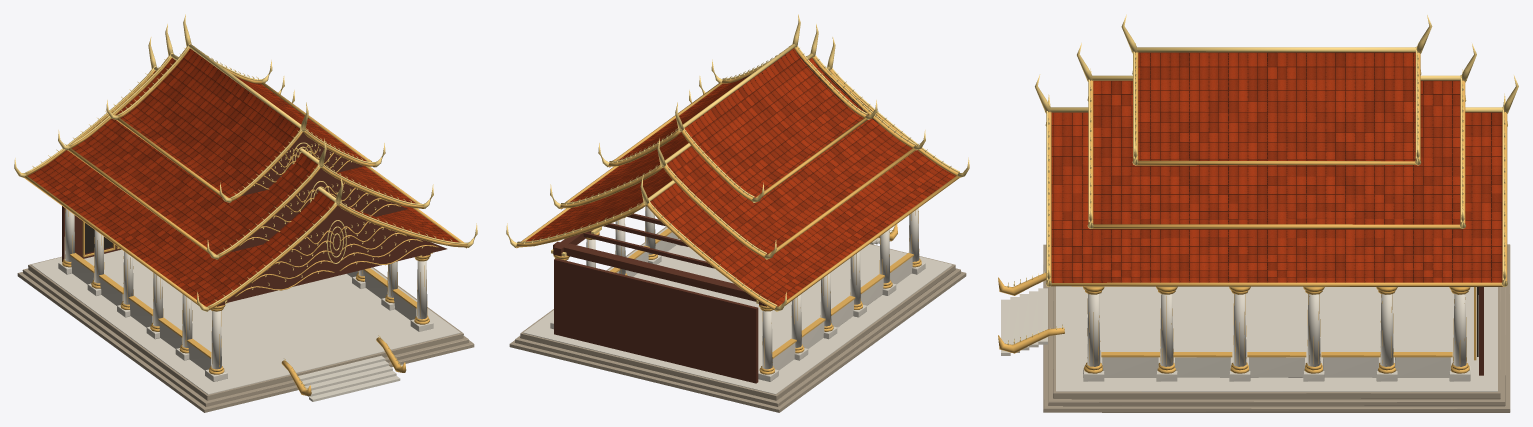
File: temple-lod.glb
The picture shows the model from 3 angles, left to right: view 1: azimuth 30°, elevation 25°; view 2: azimuth 150°, elevation 25°; view 3: azimuth 270°, elevation 25°; orthographic projection. The views are drawn at different scales.
Visible parts, largest first — view 1: temple LOD / Mobile tiled roof, temple LOD / Warm carved limestone, temple LOD / Antique warm gold, temple LOD / Dark carved teak, temple LOD / Sandstone plinth, temple LOD / Raised gold ornament; view 2: temple LOD / Mobile tiled roof, temple LOD / Dark carved teak, temple LOD / Warm carved limestone, temple LOD / Antique warm gold, temple LOD / Sandstone plinth, temple LOD / Raised gold ornament; view 3: temple LOD / Mobile tiled roof, temple LOD / Warm carved limestone, temple LOD / Antique warm gold, temple LOD / Sandstone plinth, temple LOD / Raised gold ornament.
Boxes of the visible parts, x1=… form: temple LOD / Mobile tiled roof: x1=28, y1=48, x2=459, y2=306; temple LOD / Warm carved limestone: x1=31, y1=208, x2=460, y2=401; temple LOD / Antique warm gold: x1=24, y1=47, x2=467, y2=395; temple LOD / Dark carved teak: x1=62, y1=132, x2=446, y2=306; temple LOD / Sandstone plinth: x1=17, y1=256, x2=474, y2=412; temple LOD / Raised gold ornament: x1=14, y1=14, x2=477, y2=390; temple LOD / Mobile tiled roof: x1=525, y1=48, x2=955, y2=306; temple LOD / Dark carved teak: x1=553, y1=53, x2=882, y2=383; temple LOD / Warm carved limestone: x1=523, y1=206, x2=952, y2=394; temple LOD / Antique warm gold: x1=516, y1=47, x2=959, y2=374; temple LOD / Sandstone plinth: x1=509, y1=226, x2=966, y2=412; temple LOD / Raised gold ornament: x1=506, y1=14, x2=969, y2=311; temple LOD / Mobile tiled roof: x1=1051, y1=52, x2=1502, y2=282; temple LOD / Warm carved limestone: x1=1001, y1=286, x2=1497, y2=391; temple LOD / Antique warm gold: x1=998, y1=52, x2=1507, y2=373; temple LOD / Sandstone plinth: x1=1043, y1=244, x2=1510, y2=412; temple LOD / Raised gold ornament: x1=1007, y1=14, x2=1518, y2=344.
Bounding box in the file's own units: 20.76 × 17.94 × 26.74.
7 materials, 1 textured.
